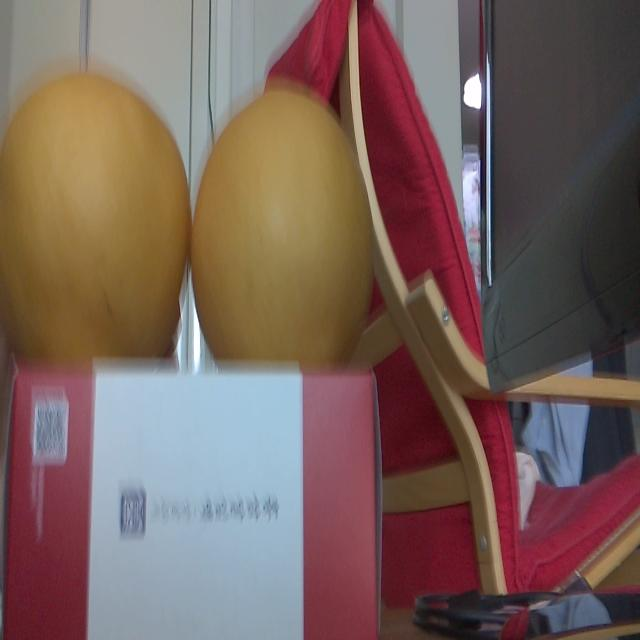pear: (0, 64, 193, 372), (192, 82, 375, 364)
